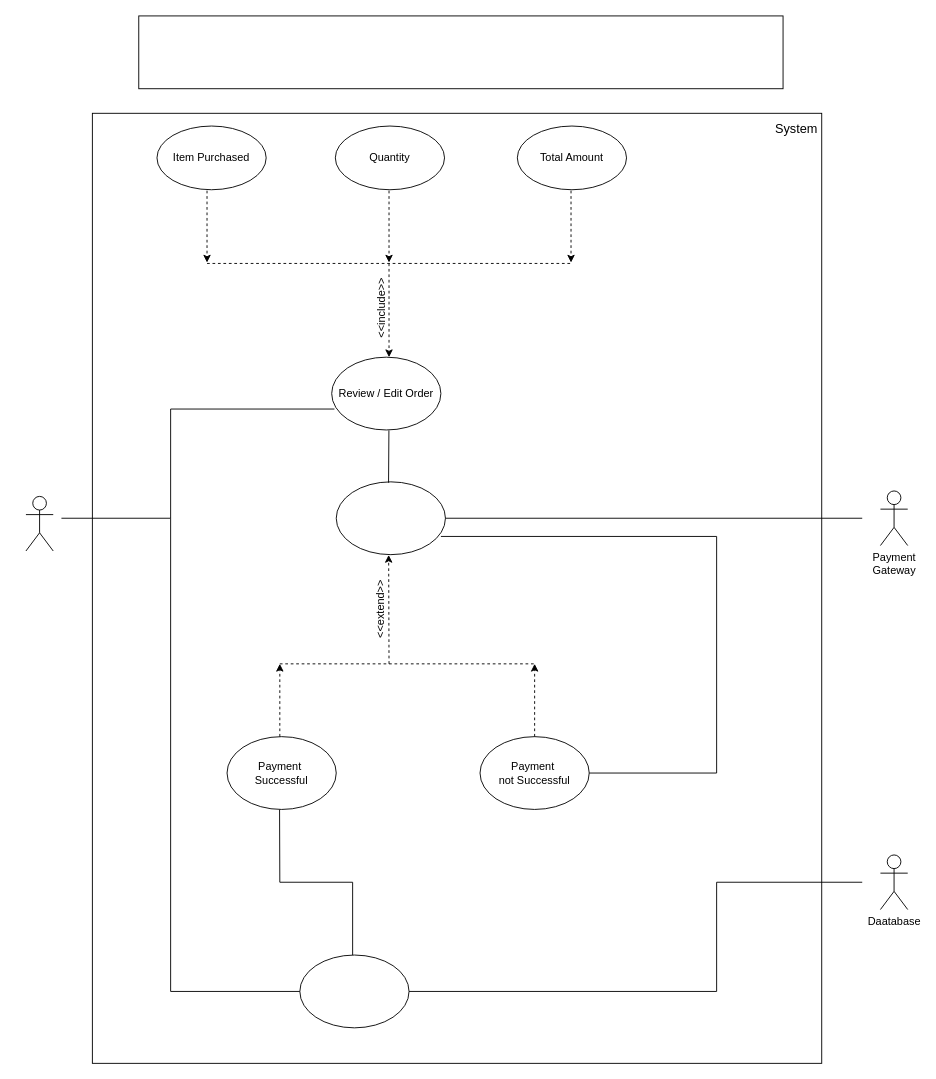
This 936x1079 diagram has some shape labels left out. The centre of each missing label's shape, as x and y in pixels:
Customer: the point at 39,523
Make Payment: the point at 390,518
Order Placed Confirmation: the point at 354,991
Payment Use-Case Diagram: the point at 460,52
